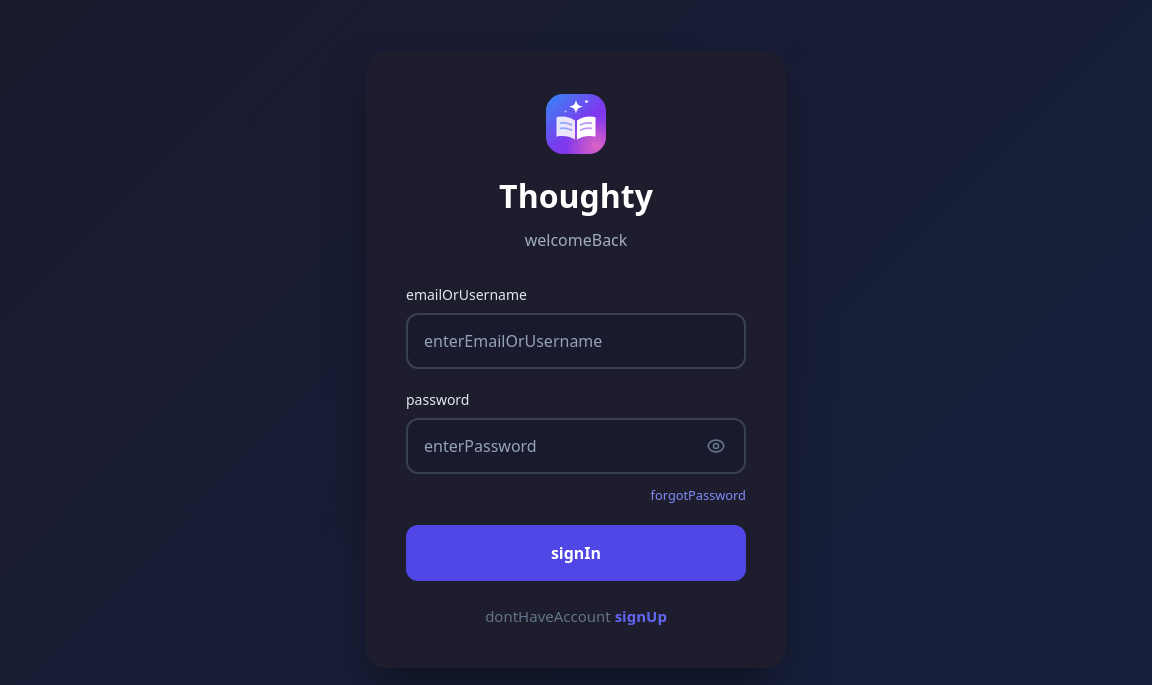
AuthPage › switches to registration form when clicking signUp
# Find the signUp button in the switch section
Click the button "signUp": (641,617) 615,605 -> 667,628
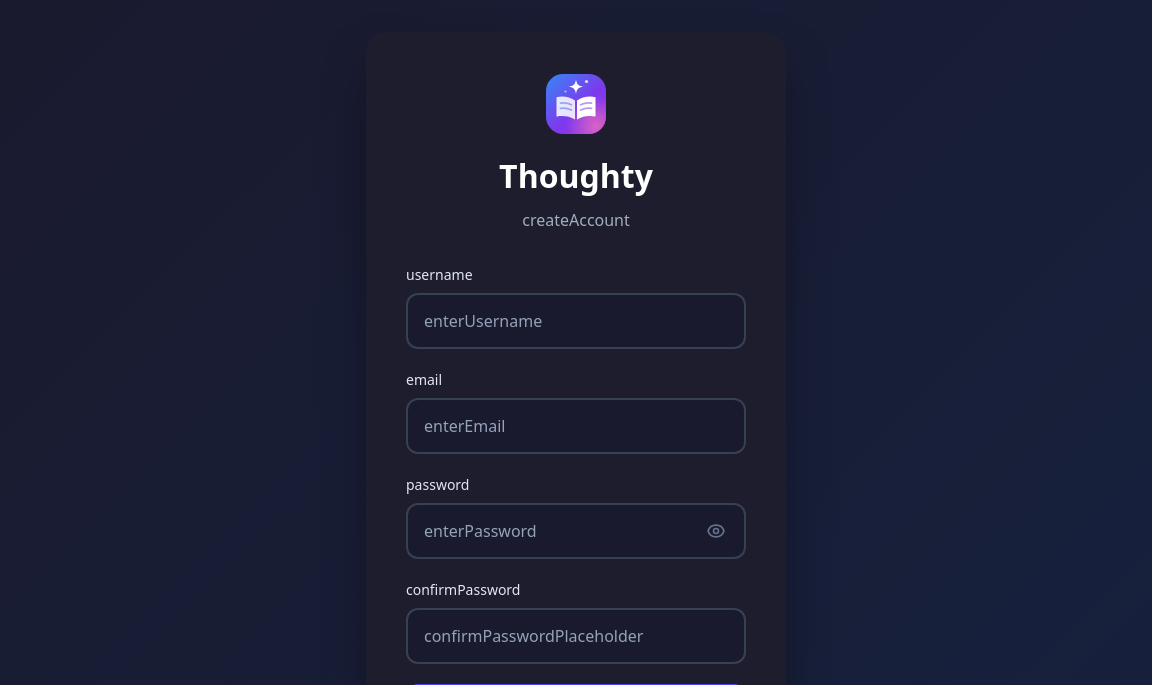
Expected: the field labelled "email" is shown, 406,398 -> 746,454
Expected: the field labelled "username" is shown, 406,293 -> 746,349
